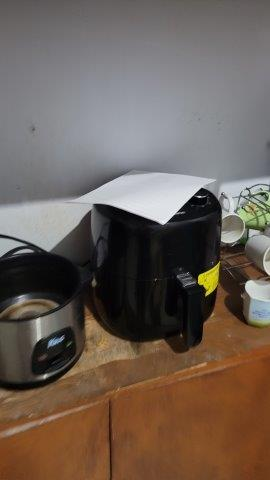kertas: (58, 166, 218, 222)
